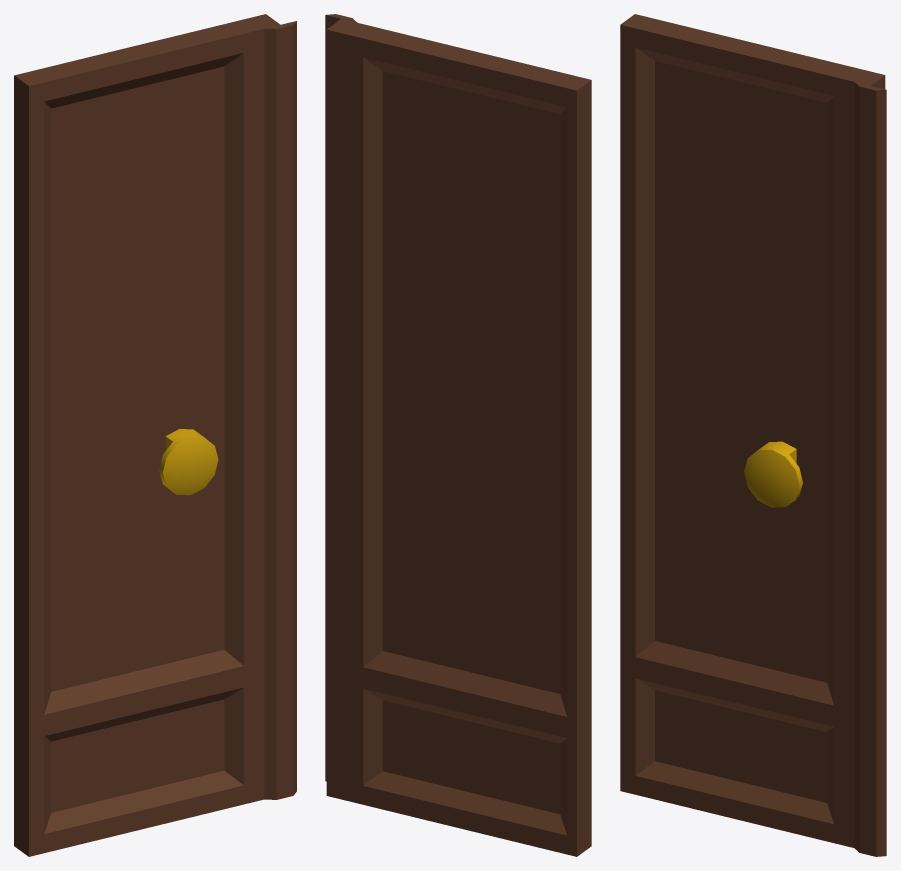
Rendered from SM_Buildings_Church_01_Door_L.fbx.
3 renders of one model, left to right at view 1: azimuth 30°, elevation 25°; view 2: azimuth 150°, elevation 25°; view 3: azimuth 330°, elevation 25°, orthographic.
Parts seen in each view (by area): view 1: SM_Buildings_Church_01_Door_L; view 2: SM_Buildings_Church_01_Door_L; view 3: SM_Buildings_Church_01_Door_L.
Boxes of the visible parts, x1,y1,x2,y2 form: SM_Buildings_Church_01_Door_L: (14, 14, 296, 856); SM_Buildings_Church_01_Door_L: (325, 14, 591, 856); SM_Buildings_Church_01_Door_L: (620, 14, 886, 856).
Bounding box in the file's own units: 0.7688 × 2.11 × 0.1075.
